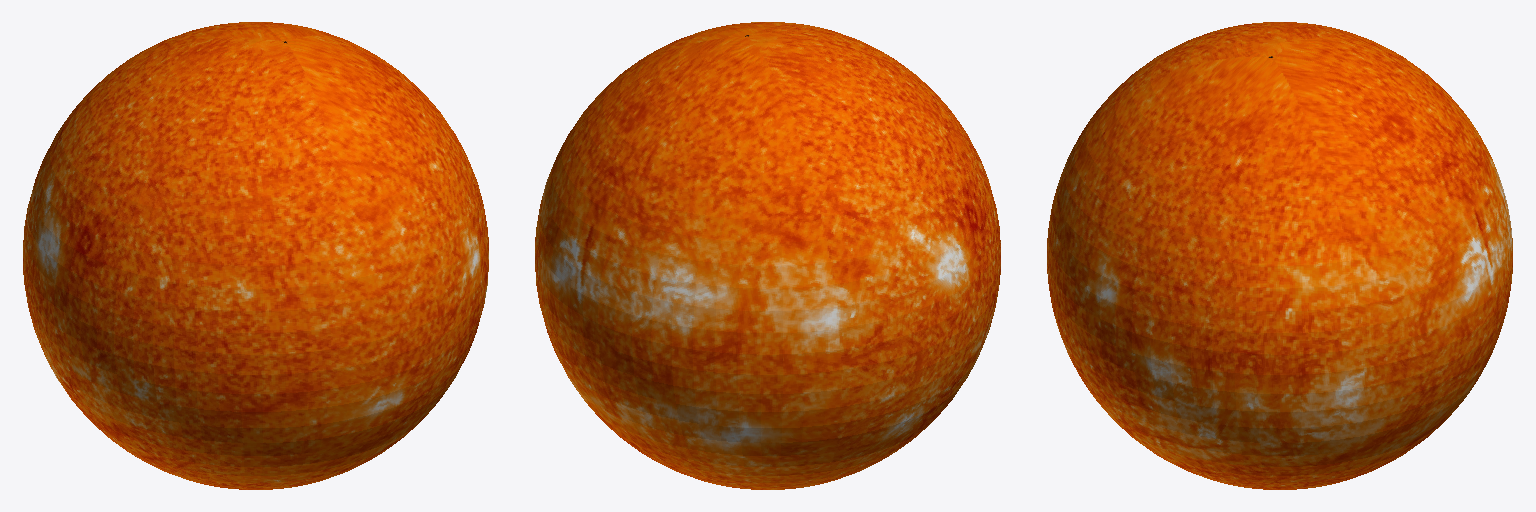
3 views of the same model, side by side, from view 1: azimuth 30°, elevation 25°; view 2: azimuth 150°, elevation 25°; view 3: azimuth 270°, elevation 25° (orthographic).
Parts seen in each view (by area): view 1: Sphere; view 2: Sphere; view 3: Sphere.
Part boxes in pixels (x1,y1,x2,y2): Sphere: (23, 22, 488, 489); Sphere: (535, 22, 1000, 489); Sphere: (1047, 22, 1512, 489).
Bounding box in the file's own units: 1422 × 1434 × 1422.
Materials: 1 (1 with a texture image).